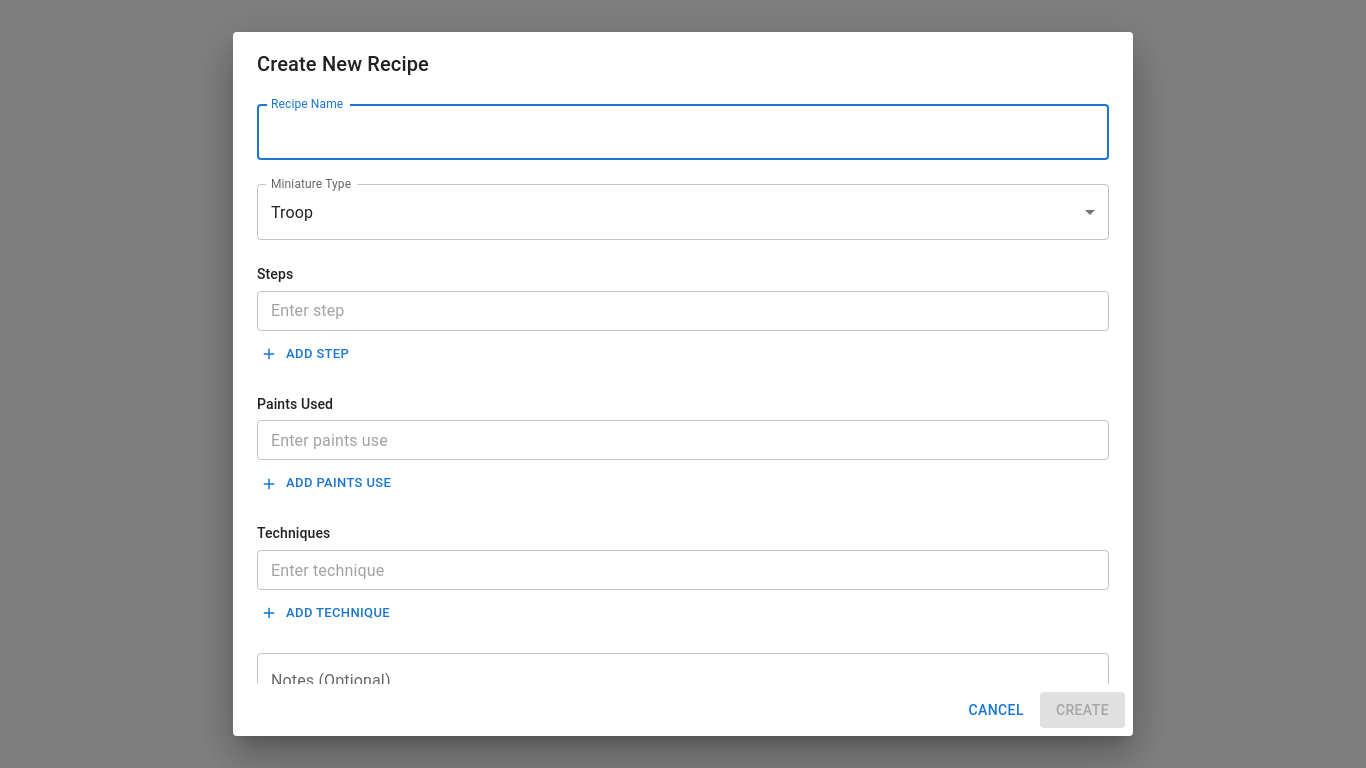
Test: RecipeForm › changes miniature type selection
Click the dropdown named "Miniature Type": (292, 212) x1=271 y1=202 x2=313 y2=222
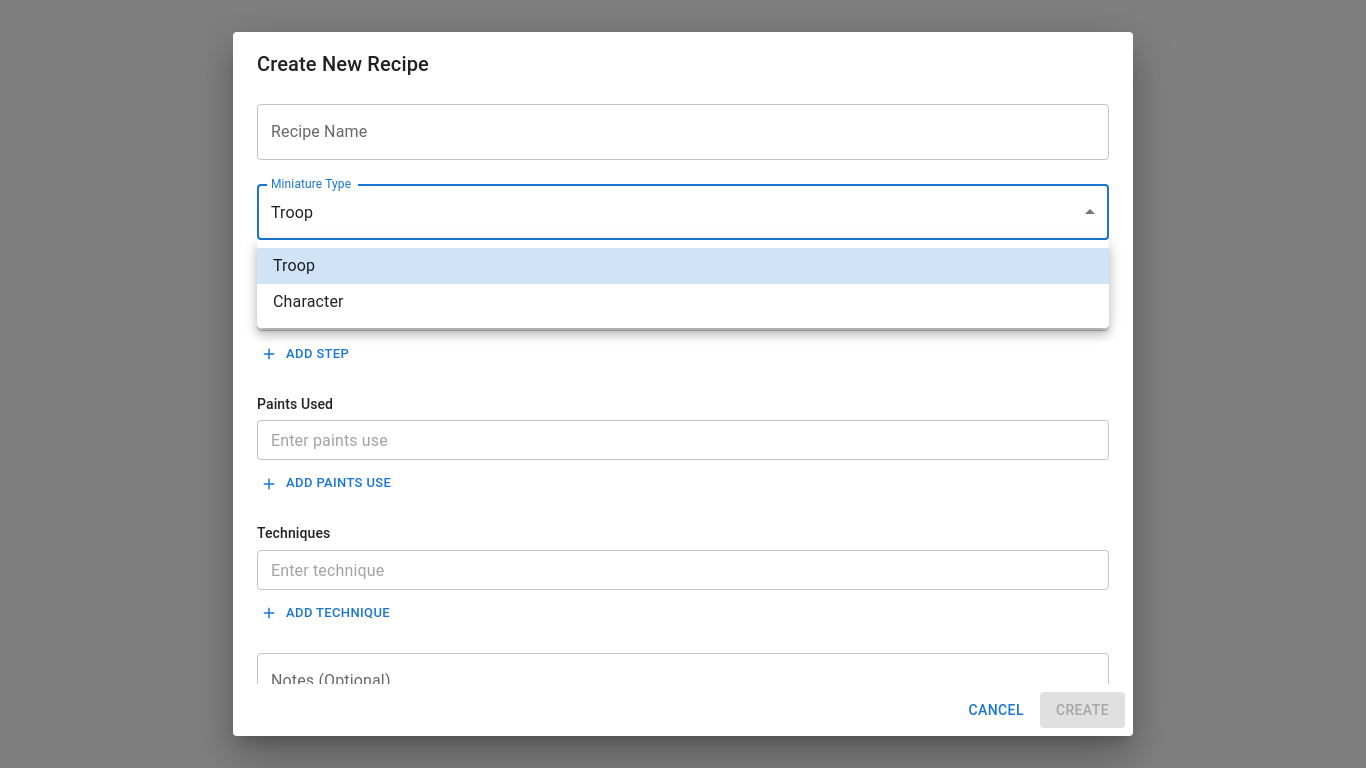
Click the option "Character": (308, 302) x1=273 y1=292 x2=344 y2=311
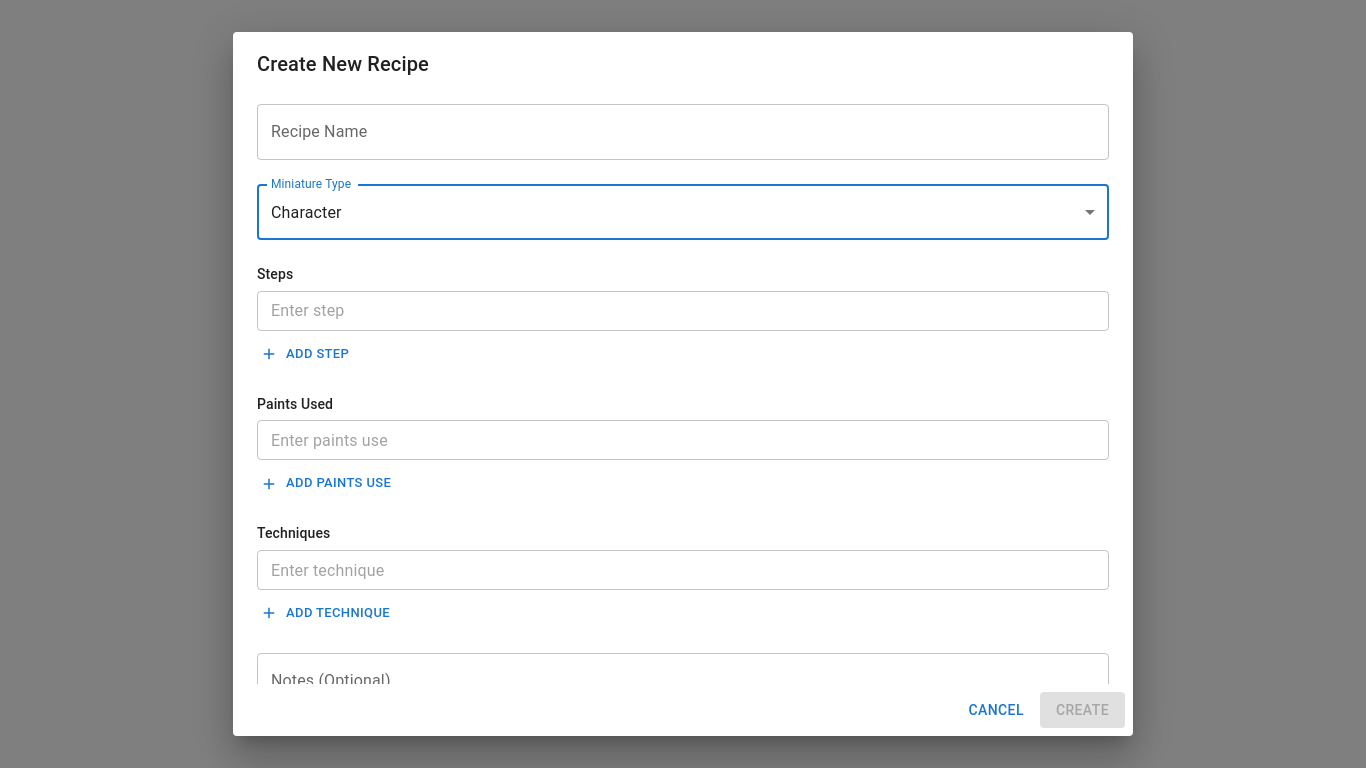
Expected: the element showing "character" is shown, x1=257 y1=184 x2=1109 y2=240
